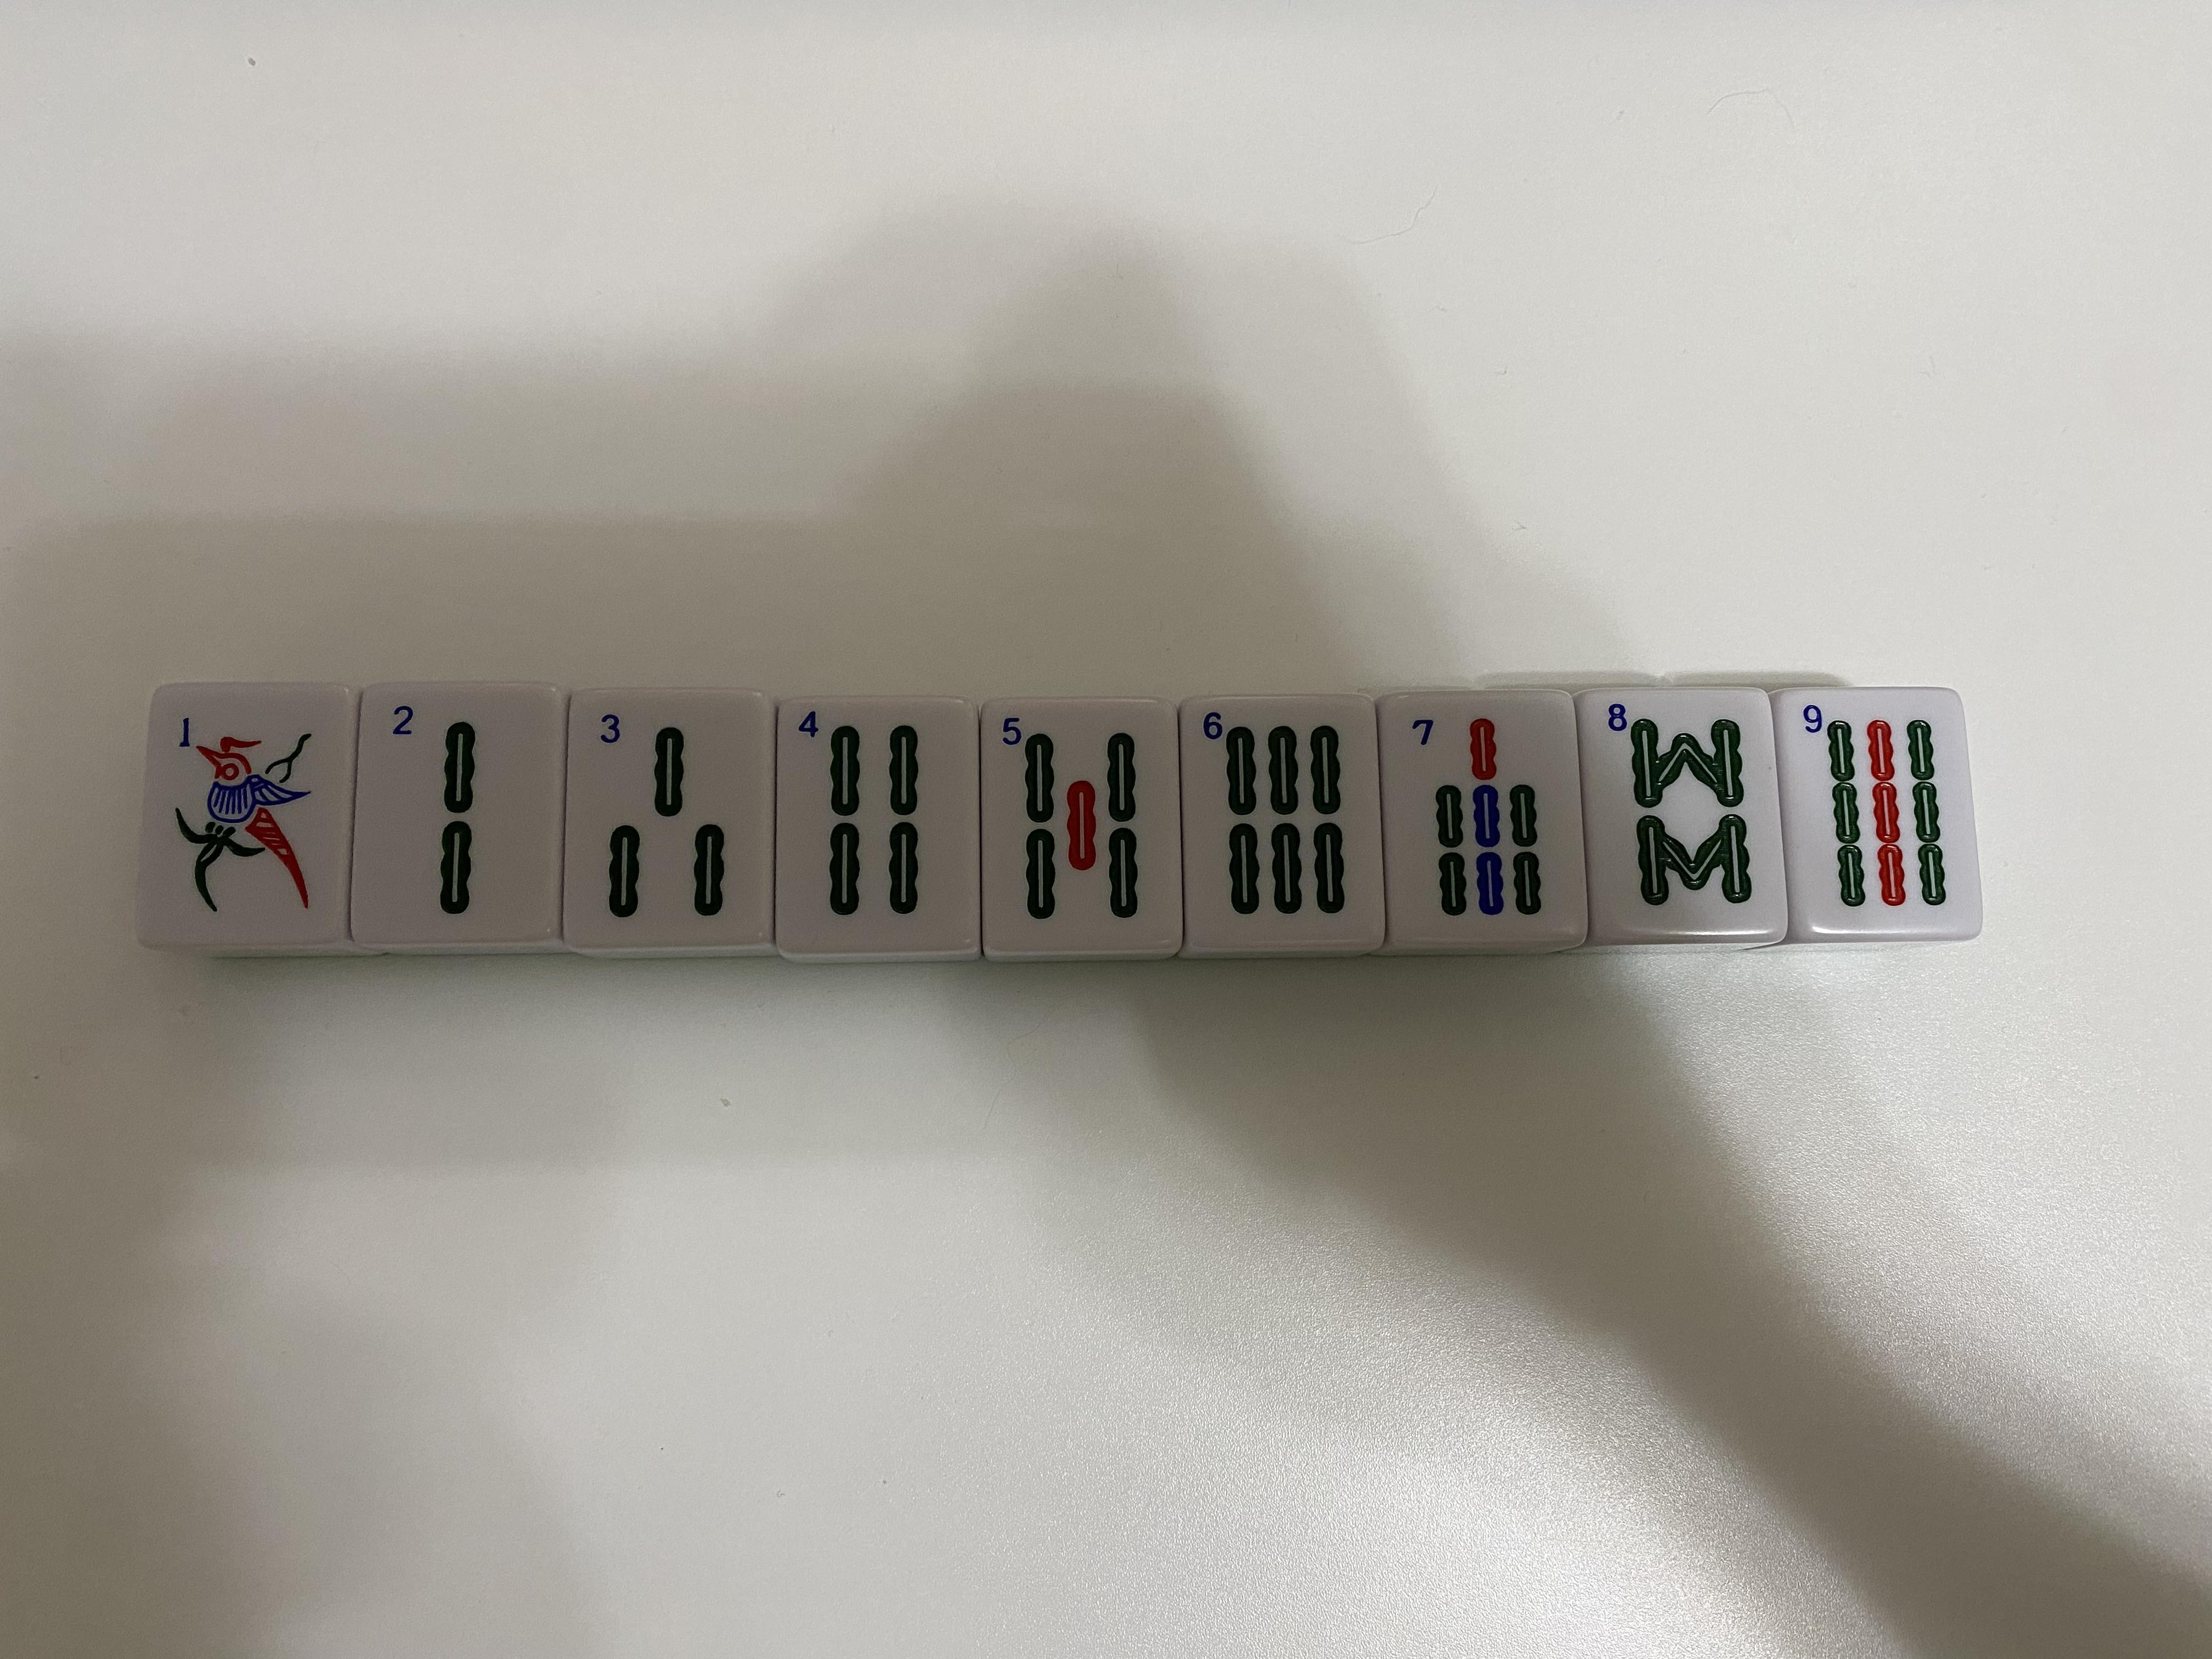bamboo-eight: (1581, 690, 1775, 941)
bamboo-five: (984, 699, 1186, 951)
bamboo-four: (770, 692, 984, 955)
bamboo-nine: (1787, 688, 1973, 939)
bamboo-one: (150, 683, 345, 950)
bamboo-seven: (1376, 694, 1585, 948)
bamboo-six: (1184, 697, 1381, 948)
bamboo-three: (563, 690, 772, 950)
bamboo-two: (350, 681, 554, 951)
